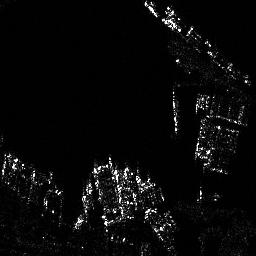ship: (188, 25, 212, 48), (170, 89, 181, 134)
